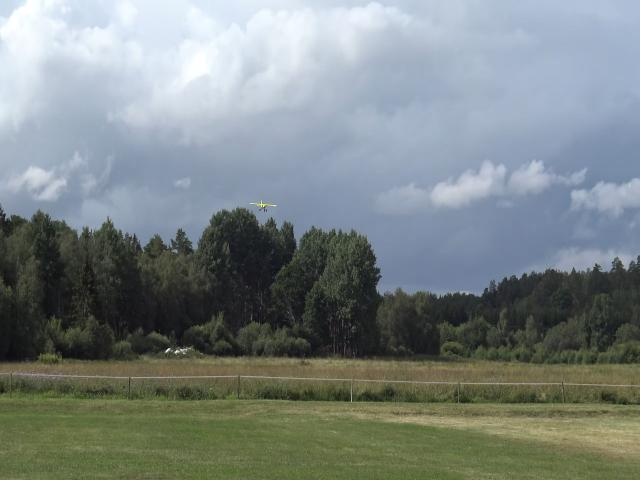plane: (250, 198, 276, 211)
